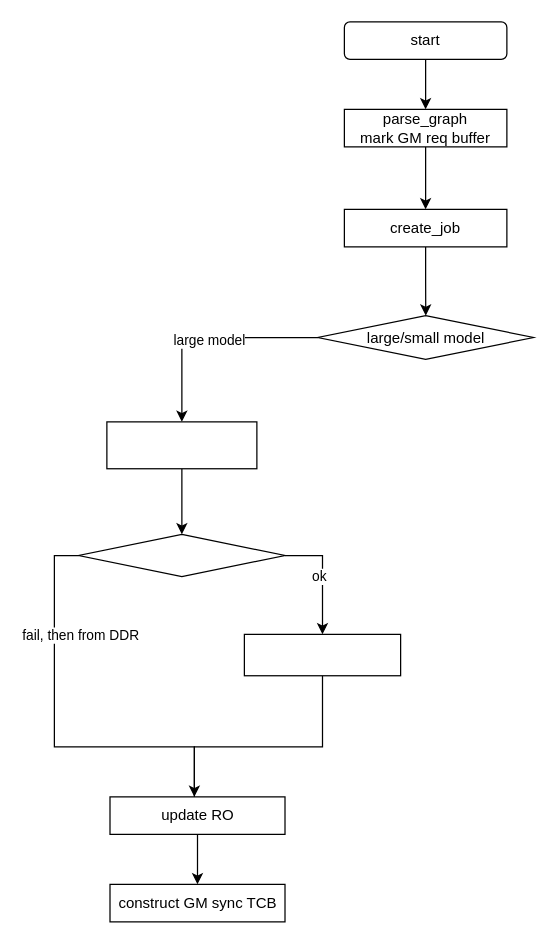
Image size: 556x944. Some labels were removed from this diagram. The shapes that lost their labels are listed below. From the top down, each one's box as (x1, y1, x2, y2) in pixels, then its label:
(106, 421, 257, 469): alloc weight/input GM
(78, 533, 285, 577): alloc GM buf OK
(243, 633, 401, 676): record GM buf info
